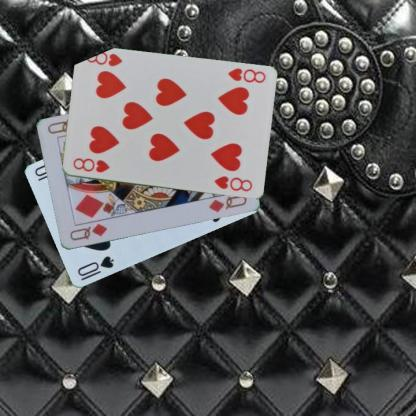10s: (75, 253, 115, 278)
8h: (225, 65, 267, 85), (70, 156, 111, 174)
Qd: (67, 221, 108, 242)
